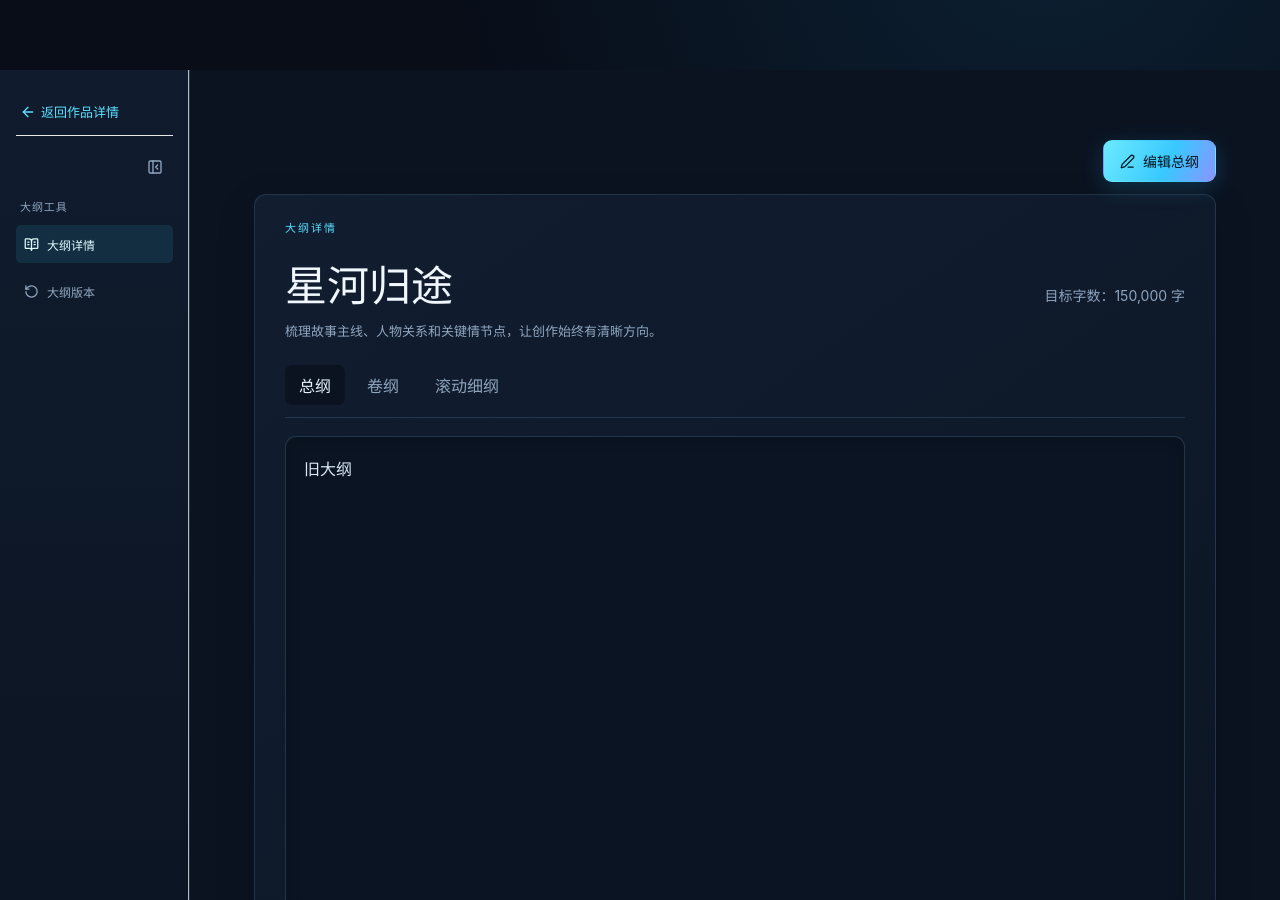
大纲详情页 › 智能规划从第一章无细纲处开始补齐五章，并自动新增缺失章节
Click the tab "滚动细纲".
click(467, 385)  # box 421,365 -> 513,405
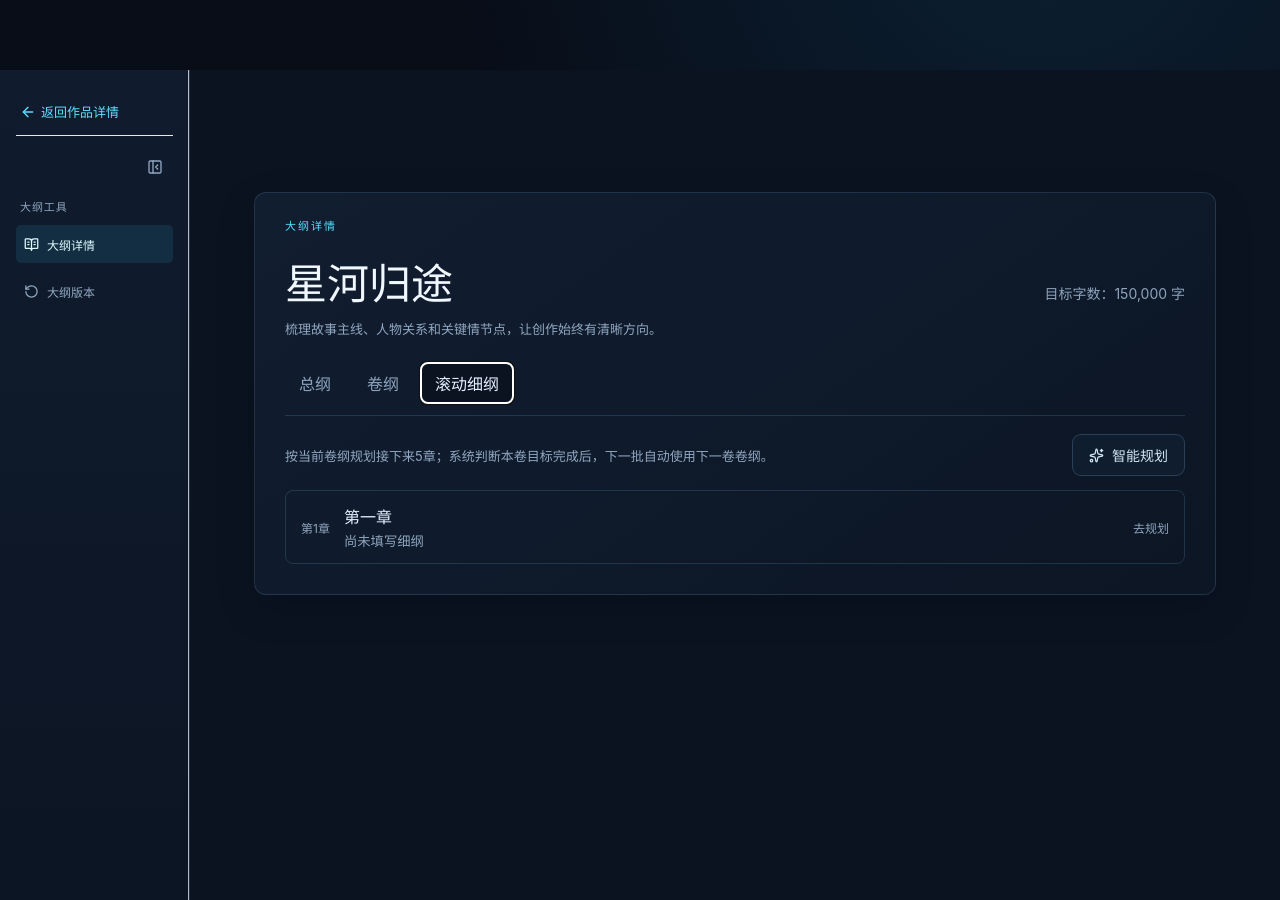
Now the text "第一章" is shown, box 344,507 -> 392,527
Click the button with aria-label "智能规划滚动细纲".
click(1128, 455)  # box 1072,434 -> 1185,476
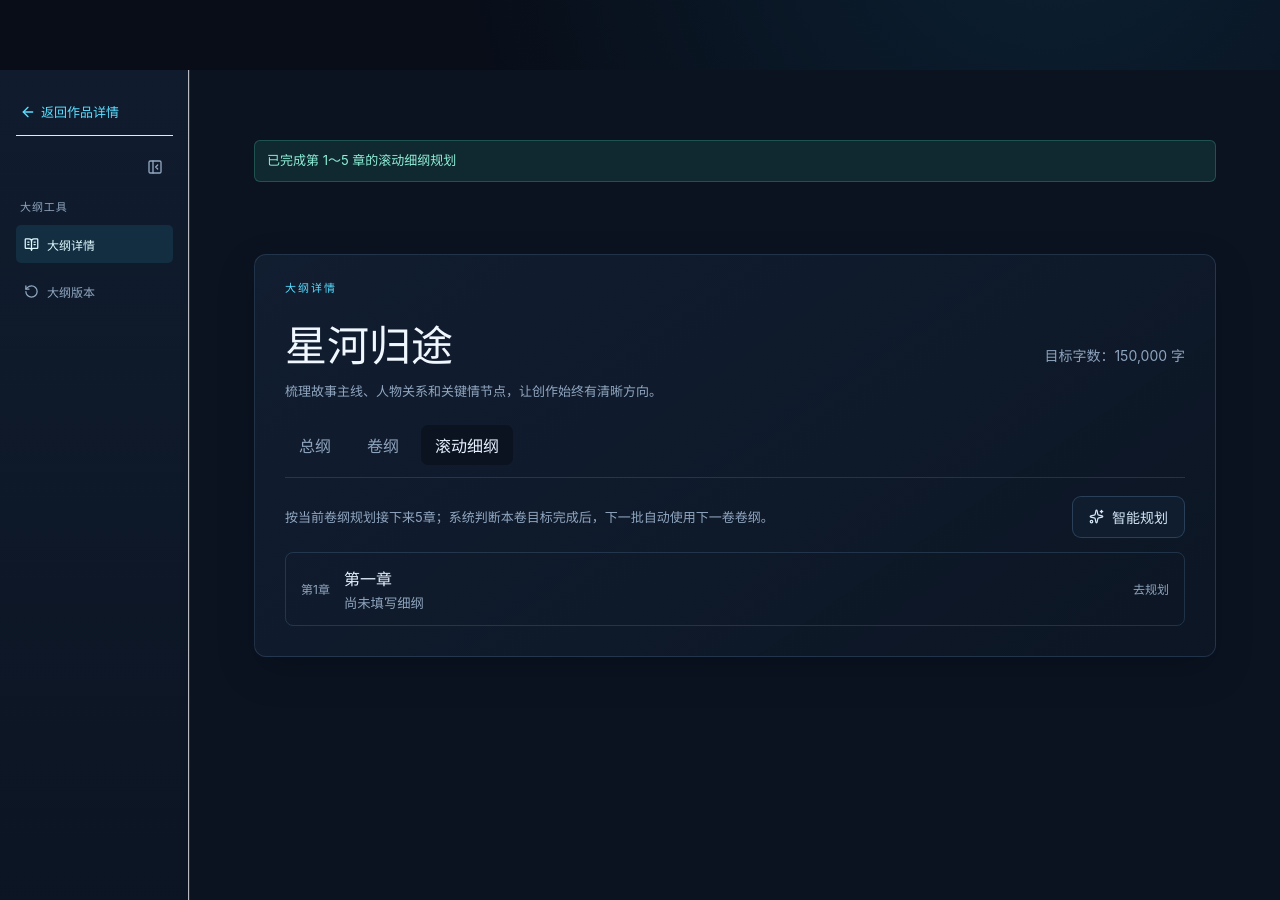
Now the message shows "已完成", box 254,140 -> 1216,182
